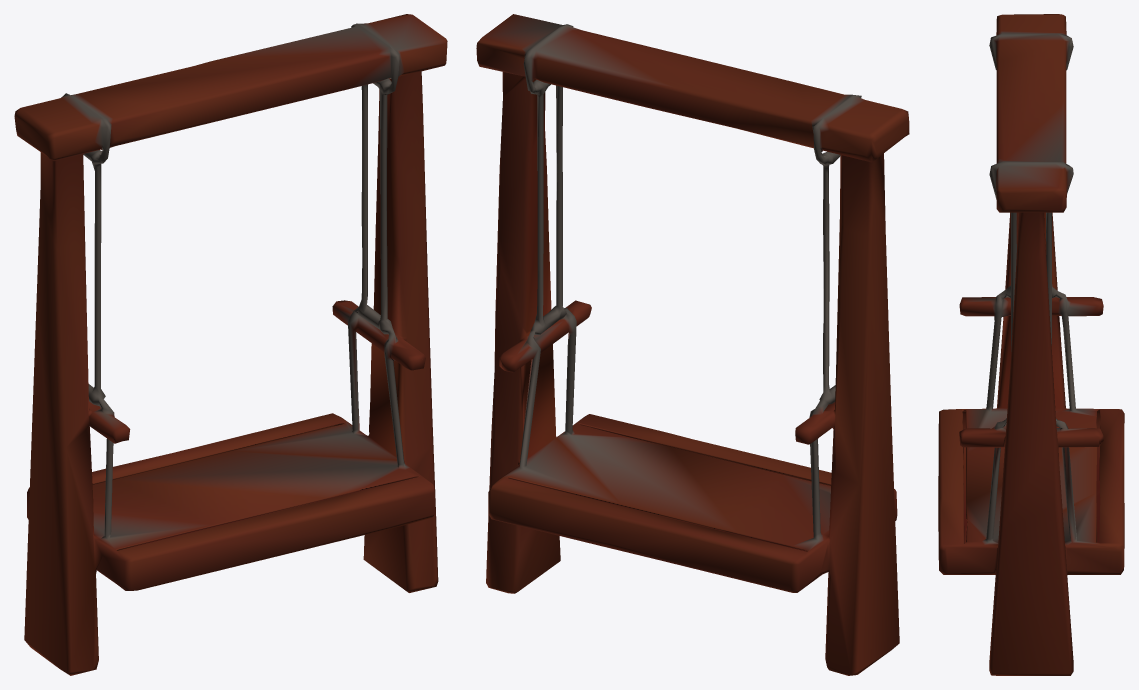
File: gen3d-wooden-swing-lod1.glb
3 views of the same model, side by side, from view 1: azimuth 30°, elevation 25°; view 2: azimuth 150°, elevation 25°; view 3: azimuth 270°, elevation 25° (orthographic). The views are drawn at different scales.
Parts seen in each view (by area): view 1: part_0; view 2: part_0; view 3: part_0.
Boxes of the visible parts, x1=… form: part_0: x1=14, y1=14, x2=447, y2=675; part_0: x1=476, y1=14, x2=909, y2=675; part_0: x1=938, y1=14, x2=1124, y2=675.
Bounding box in the file's own units: 0.7654 × 0.9997 × 0.3392.
